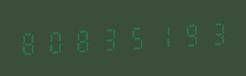eight: (17, 25, 42, 60), (69, 22, 94, 57)
five: (121, 20, 146, 54)
nine: (173, 17, 198, 52)
one: (147, 18, 172, 53)
three: (95, 21, 120, 56), (199, 16, 224, 50)
zero: (43, 24, 68, 58)
